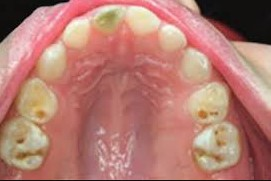UL1BC_decay: (191, 83, 232, 123)
UL2BC_decay: (196, 123, 242, 169)
ULCI_healthy: (128, 6, 160, 36)
ULC_healthy: (181, 48, 209, 82)
ULLI_healthy: (160, 26, 184, 53)
UR1BC_decay: (18, 80, 60, 125)
UR2BC_decay: (4, 119, 50, 169)
URCI_decay: (93, 5, 125, 33)
URC_healthy: (38, 44, 68, 79)
URLI_healthy: (65, 19, 90, 47)
